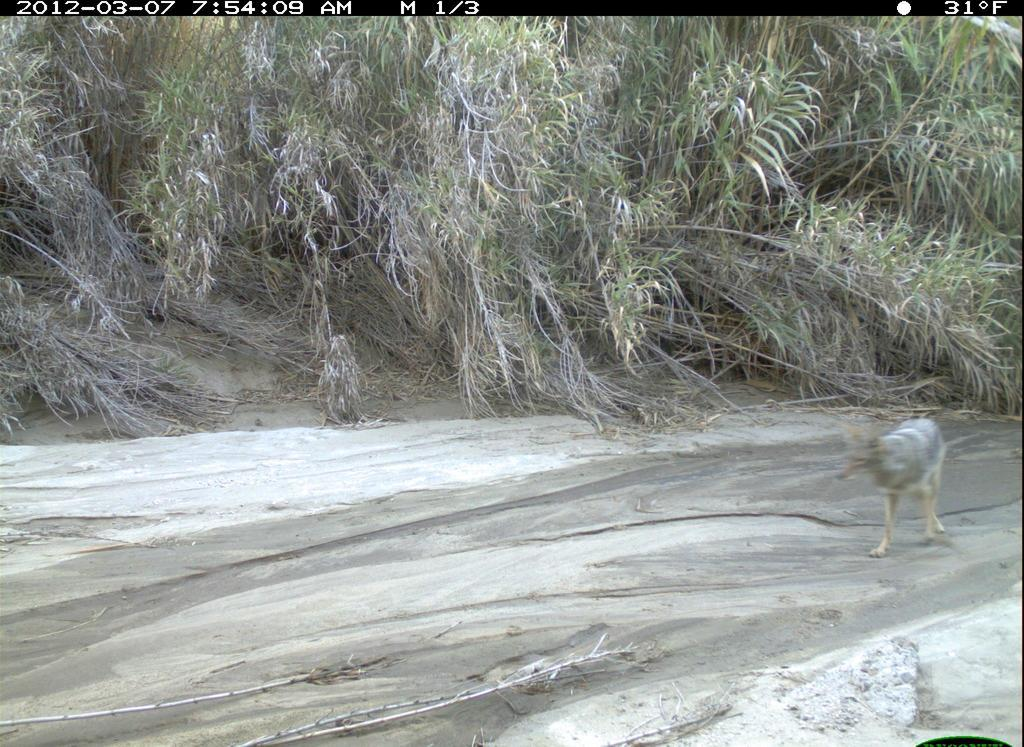coyote: (831, 410, 964, 569)
